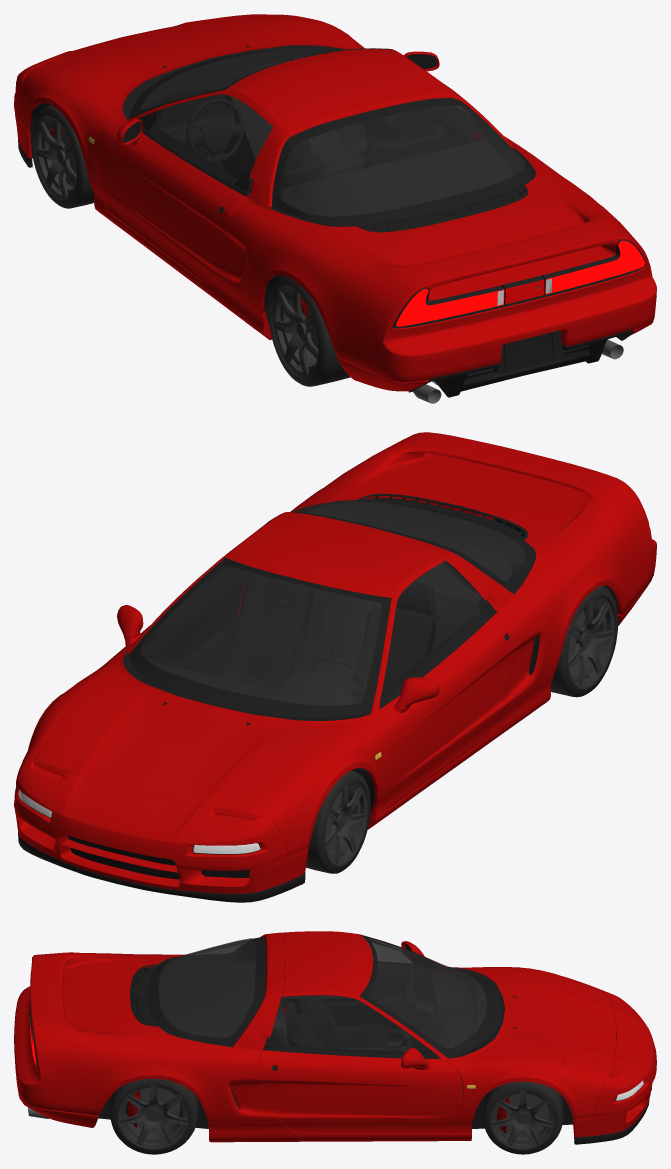
File: Honda NSX.fbx
3 renders of one model, top to bottom at view 1: azimuth 30°, elevation 25°; view 2: azimuth 150°, elevation 25°; view 3: azimuth 270°, elevation 25°, orthographic. The views are drawn at different scales.
Visible parts, largest first — view 1: Honda NSX, Rear Wheels RL, Front Left Wheels, Pop up; view 2: Honda NSX, Rear Wheels RL, Front Left Wheels, Pop up; view 3: Honda NSX, Rear Wheels RR, Front Right Wheels, Pop up.
Boxes of the visible parts, <box> form: Honda NSX: <box>14,14,656,403</box>; Rear Wheels RL: <box>268,275,350,386</box>; Front Left Wheels: <box>31,105,94,208</box>; Pop up: <box>33,14,291,74</box>; Honda NSX: <box>14,432,656,902</box>; Rear Wheels RL: <box>550,586,618,697</box>; Front Left Wheels: <box>306,770,370,873</box>; Pop up: <box>33,721,292,818</box>; Honda NSX: <box>14,931,656,1144</box>; Rear Wheels RR: <box>110,1079,198,1154</box>; Front Right Wheels: <box>483,1081,563,1154</box>; Pop up: <box>564,978,615,1077</box>.
Size of the model in its own units: 82.87 by 47.07 by 189.
